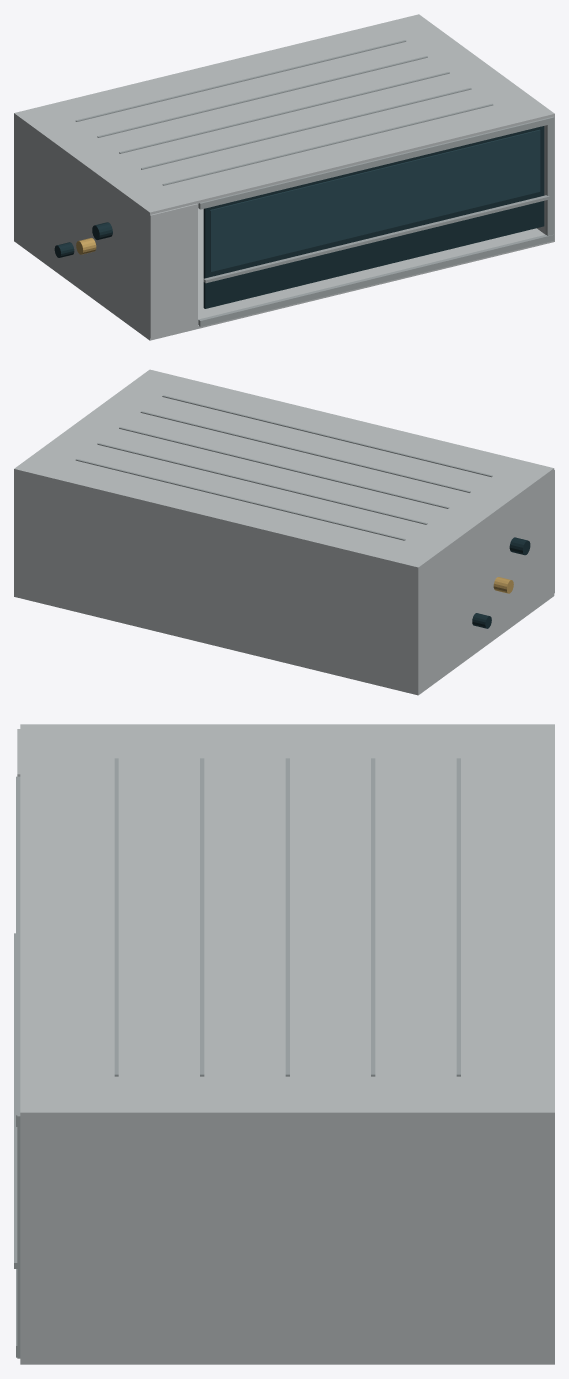
The model's file is u-match-ducted-reference.glb.
The picture shows the model from 3 angles, top to bottom: view 1: azimuth 30°, elevation 25°; view 2: azimuth 150°, elevation 25°; view 3: azimuth 270°, elevation 25°; orthographic projection. The views are drawn at different scales.
Visible parts, largest first — view 1: Gree - top, Gree - passage interior, Gree - left side, Gree - passage, Gree - front left panel, Gree - bottom, Gree - front folded lip, Gree - front folded lip.001, Gree - passage divider, Gree - front right edge, Gree - pressed rib, Gree - pressed rib.001 (+3 smaller); view 2: Gree - top, Gree - rear, Gree - left side, Gree - bottom, Gree - pressed rib, Gree - pressed rib.002, Gree - pressed rib.004, Gree - pressed rib.001, Gree - pressed rib.003; view 3: Gree - top, Gree - right side, Gree - bottom, Gree - front folded lip.001, Gree - pressed rib, Gree - pressed rib.001, Gree - pressed rib.002, Gree - pressed rib.003, Gree - pressed rib.004, Gree - front right edge, Gree - passage divider.
Part boxes in pixels (x1,y1,x2,y2): Gree - top: (14,14,554,214); Gree - passage interior: (210,129,540,271); Gree - left side: (14,116,149,336); Gree - passage: (203,126,544,308); Gree - front left panel: (148,203,197,338); Gree - bottom: (14,204,554,340); Gree - front folded lip: (198,234,553,326); Gree - front folded lip.001: (198,117,553,209); Gree - passage divider: (203,195,549,283); Gree - front right edge: (545,116,554,240); Gree - pressed rib: (162,103,493,185); Gree - pressed rib.001: (141,88,471,169); Gree - top: (14,369,554,569); Gree - rear: (16,472,415,691); Gree - left side: (415,471,554,692); Gree - bottom: (14,593,554,695); Gree - pressed rib: (162,395,492,477); Gree - pressed rib.002: (119,427,449,508); Gree - pressed rib.004: (75,459,405,540); Gree - pressed rib.001: (140,411,470,492); Gree - pressed rib.003: (97,443,427,524); Gree - top: (20,724,554,1118); Gree - right side: (20,1117,554,1359); Gree - bottom: (20,1359,554,1364); Gree - front folded lip.001: (16,776,20,1126); Gree - pressed rib: (114,758,118,1076); Gree - pressed rib.001: (200,758,204,1076); Gree - pressed rib.002: (285,758,289,1076); Gree - pressed rib.003: (371,758,375,1076); Gree - pressed rib.004: (456,758,460,1076); Gree - front right edge: (17,1110,20,1358); Gree - passage divider: (14,933,17,1268).
Bounding box in the file's own units: 0.888 × 0.262 × 0.506.
